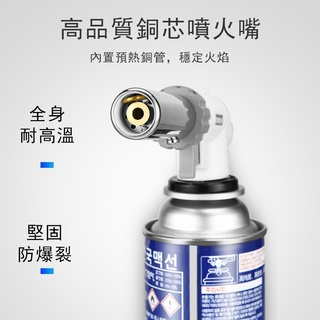gastorch: (104, 76, 275, 320)
